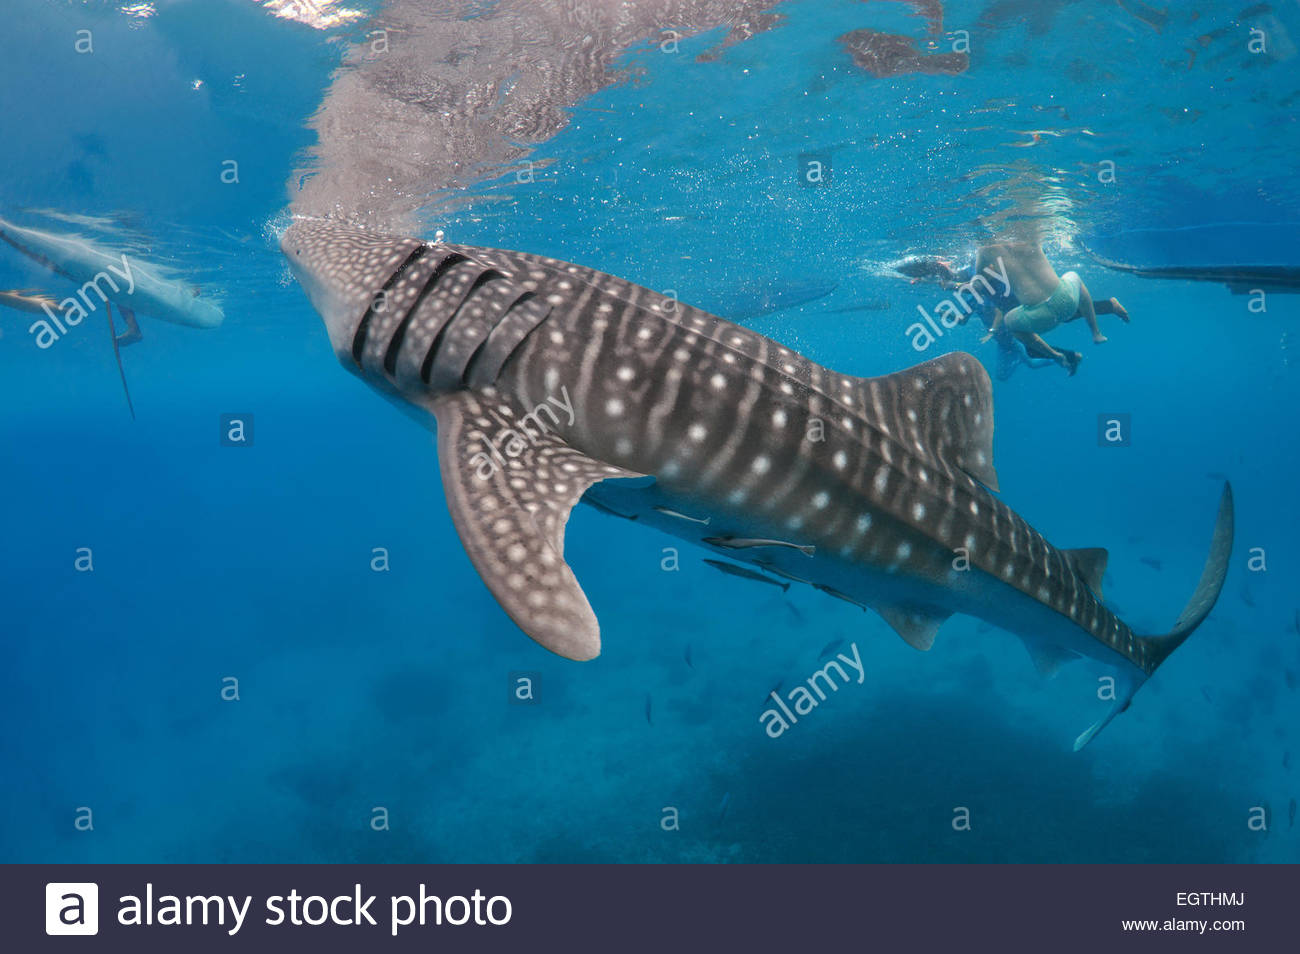Rhincodon_typusw: (246, 199, 1234, 756)
